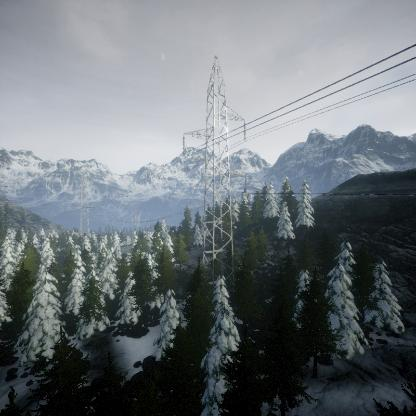tower: (178, 51, 248, 291)
